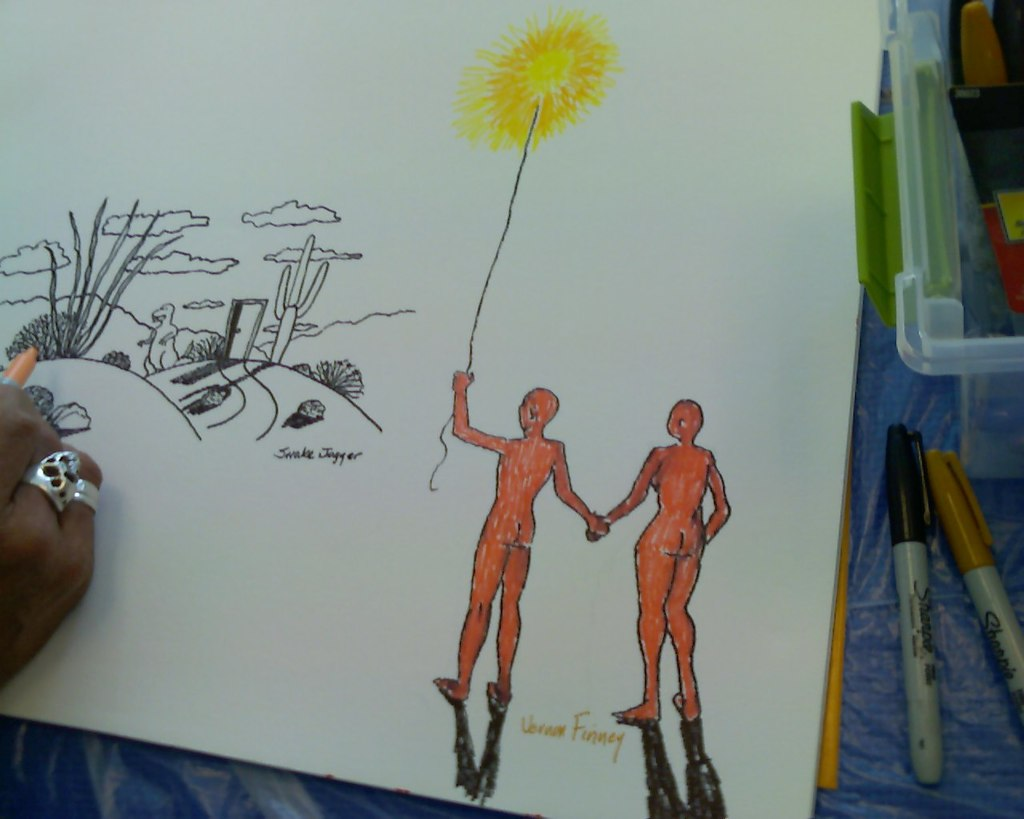Pen: (932, 444, 1023, 743), (883, 417, 940, 791), (0, 339, 40, 395)
